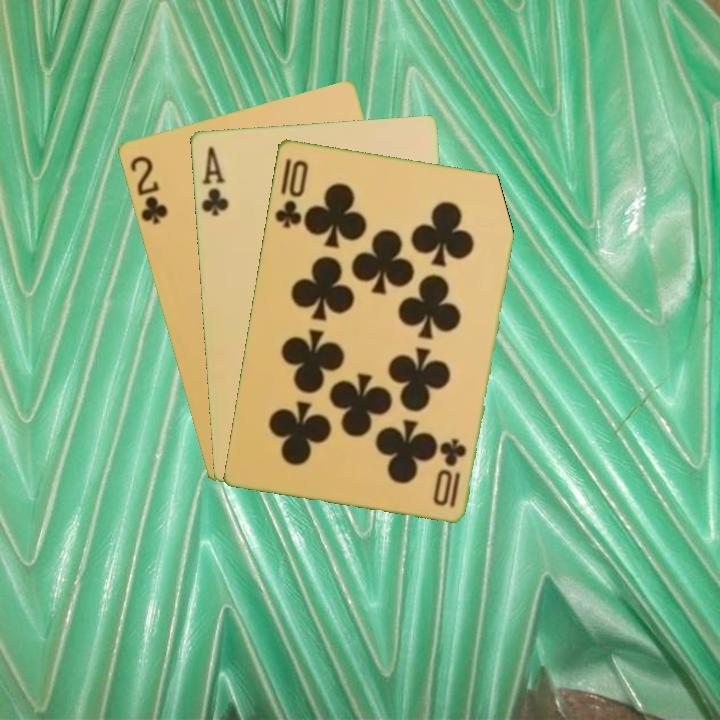10c: (271, 156, 311, 230), (431, 434, 469, 510)
2c: (126, 152, 170, 227)
Ac: (197, 143, 231, 219)
